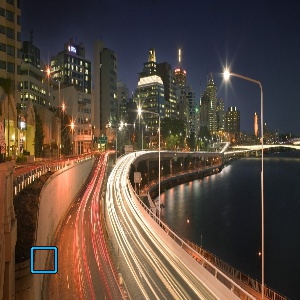square: (29, 243, 59, 276)
